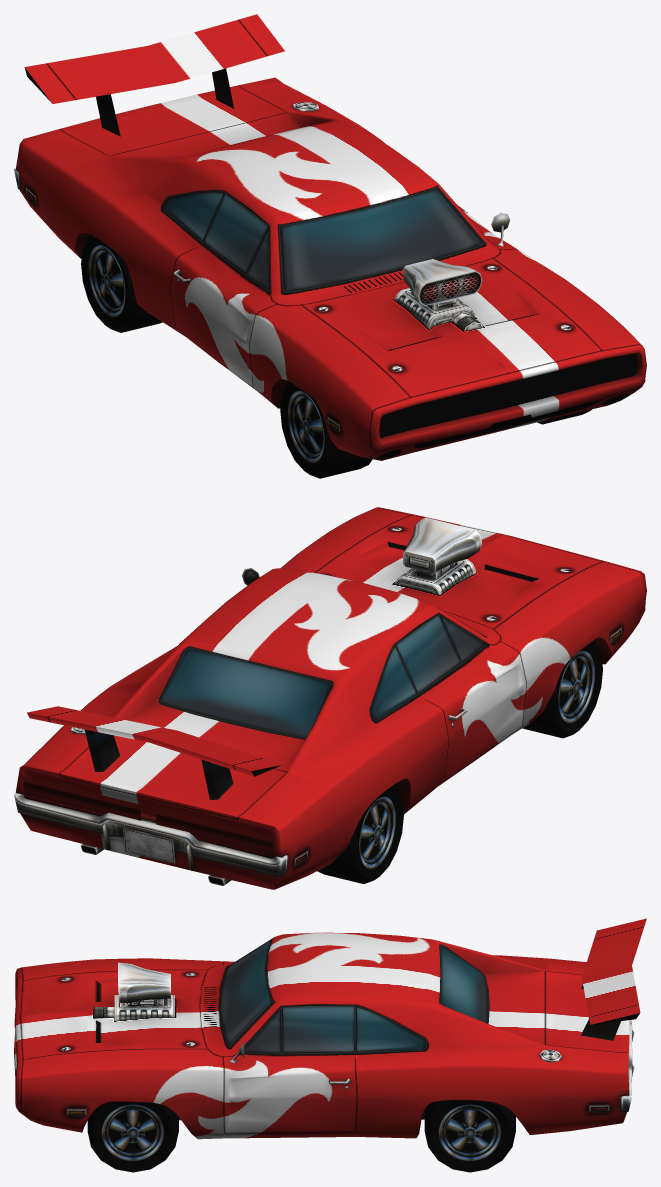
3 renders of one model, top to bottom at view 1: azimuth 30°, elevation 25°; view 2: azimuth 150°, elevation 25°; view 3: azimuth 270°, elevation 25°, orthographic. The views are drawn at different scales.
Visible parts, largest first — view 1: player_chassis, veh_wheel_fr, veh_wheel_b; view 2: player_chassis, veh_wheel_b, veh_wheel_fr; view 3: player_chassis, veh_wheel_b, veh_wheel_fl.
Part boxes in pixels (left/top/right/bottom): player_chassis: left=14, top=14, right=646, bottom=460; veh_wheel_fr: left=280, top=381, right=372, bottom=478; veh_wheel_b: left=81, top=235, right=162, bottom=332; player_chassis: left=14, top=507, right=646, bottom=889; veh_wheel_b: left=317, top=785, right=403, bottom=883; veh_wheel_fr: left=522, top=640, right=602, bottom=738; player_chassis: left=14, top=918, right=646, bottom=1139; veh_wheel_b: left=424, top=1100, right=515, bottom=1172; veh_wheel_fl: left=87, top=1102, right=178, bottom=1172.
Size of the model in its own units: 1.91 by 1.2 by 4.36.
